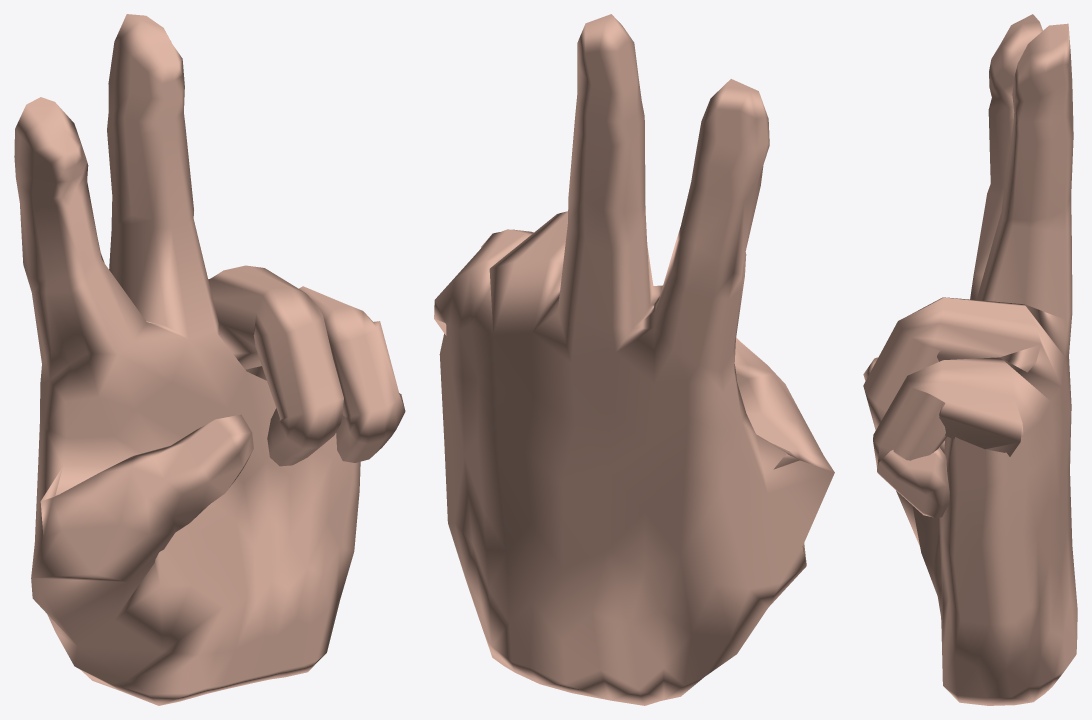
The model's file is MAO_2.obj.
3 views of the same model, side by side, from view 1: azimuth 30°, elevation 25°; view 2: azimuth 150°, elevation 25°; view 3: azimuth 270°, elevation 25° (orthographic). The views are drawn at different scales.
Parts seen in each view (by area): view 1: mao_dir polySurface1; view 2: mao_dir polySurface1; view 3: mao_dir polySurface1.
Boxes of the visible parts, box(x1,y1,x2,y2) form: mao_dir polySurface1: box(14, 14, 405, 705); mao_dir polySurface1: box(434, 14, 834, 705); mao_dir polySurface1: box(863, 14, 1077, 705).
Size of the model in its own units: 133 by 243 by 75.81.
